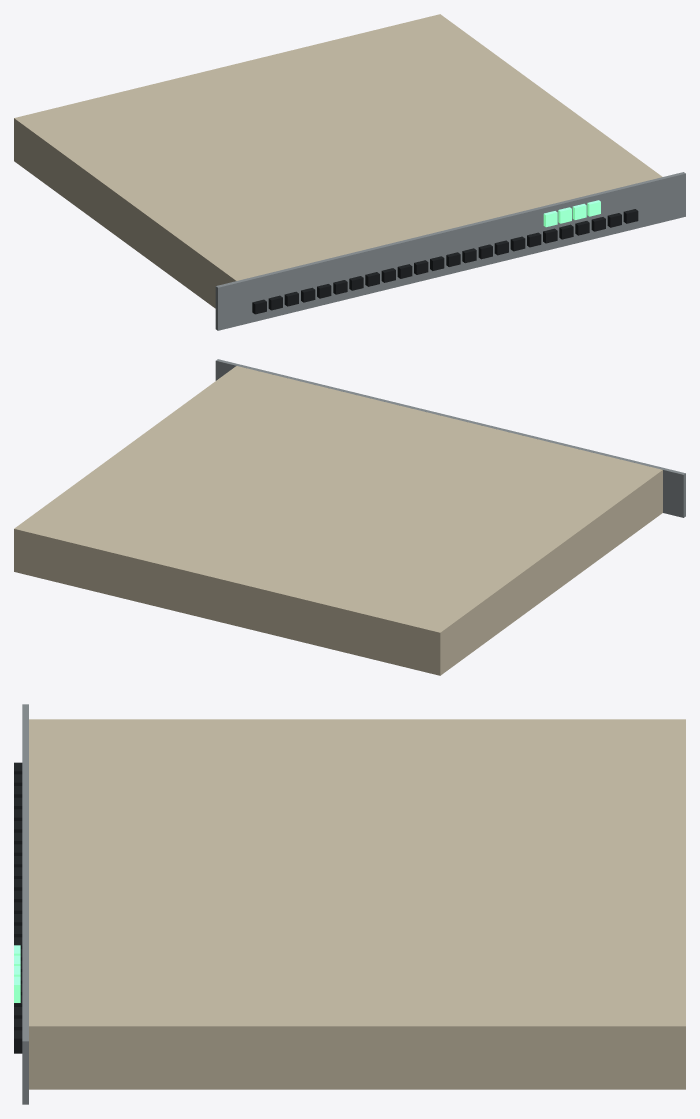
The model's file is terminal-server-30.glb.
3 renders of one model, top to bottom at view 1: azimuth 30°, elevation 25°; view 2: azimuth 150°, elevation 25°; view 3: azimuth 270°, elevation 25°, orthographic. The views are drawn at different scales.
Visible parts, largest first — view 1: kit-terminal-server-30; view 2: kit-terminal-server-30; view 3: kit-terminal-server-30.
Boxes of the visible parts, x1,y1,x2,y2 form: kit-terminal-server-30: [14, 14, 685, 330]; kit-terminal-server-30: [14, 359, 685, 675]; kit-terminal-server-30: [22, 704, 685, 1104].
Size of the model in its own units: 0.483 by 0.0425 by 0.407.
